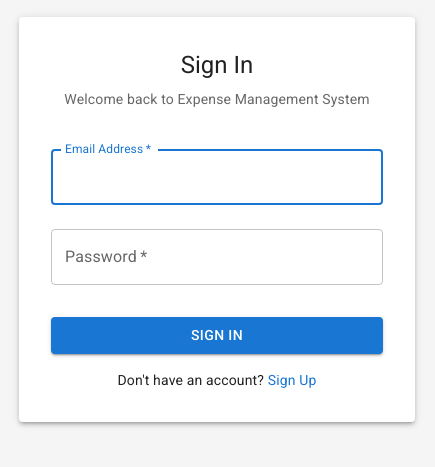
it: LoginPage › should show validation error for short password
The image size is (435, 467).
Step 1. Type "test@example.com" into the field labelled "Email Address *" → (217, 177), box [51,149,383,205]
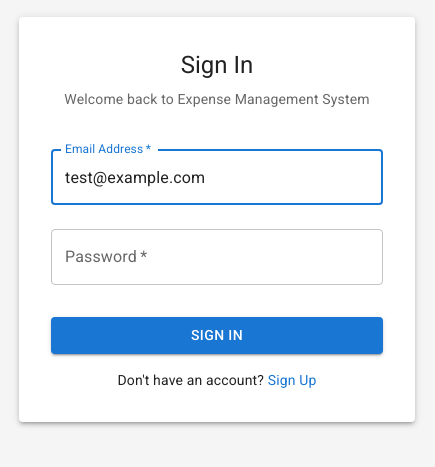
Step 2. Type "12345" into the password field labelled "Password *" → (217, 257), box [51,229,383,285]
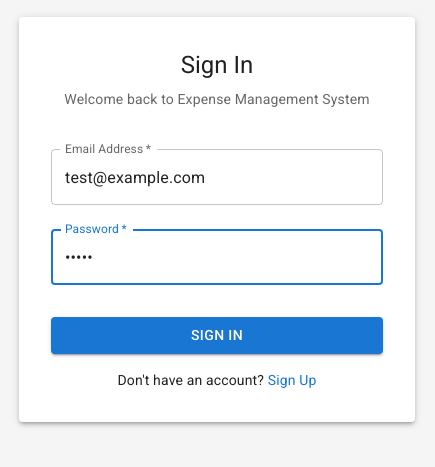
Step 3. Click the button "Sign In" → click(217, 336), box [51,317,383,354]
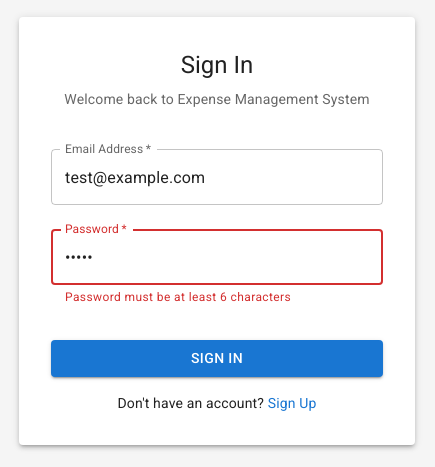
Check: the text "Password must be at least 6 characters" is shown, box [65,290,291,304]
